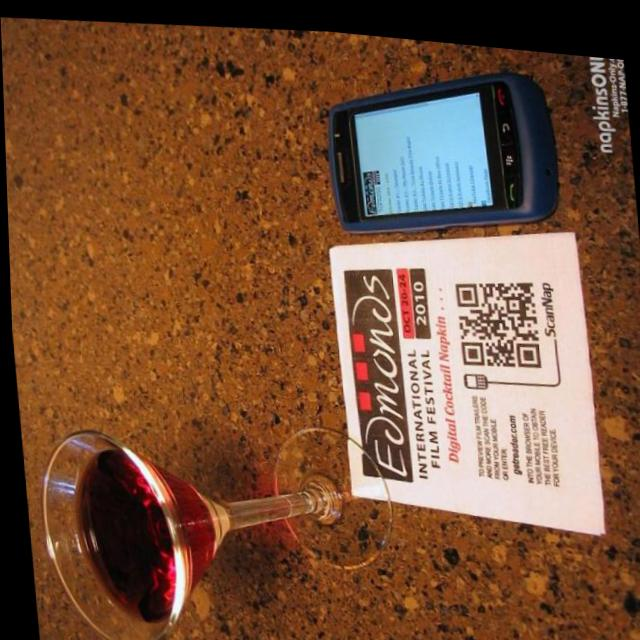qrcode: (455, 267, 539, 362)
